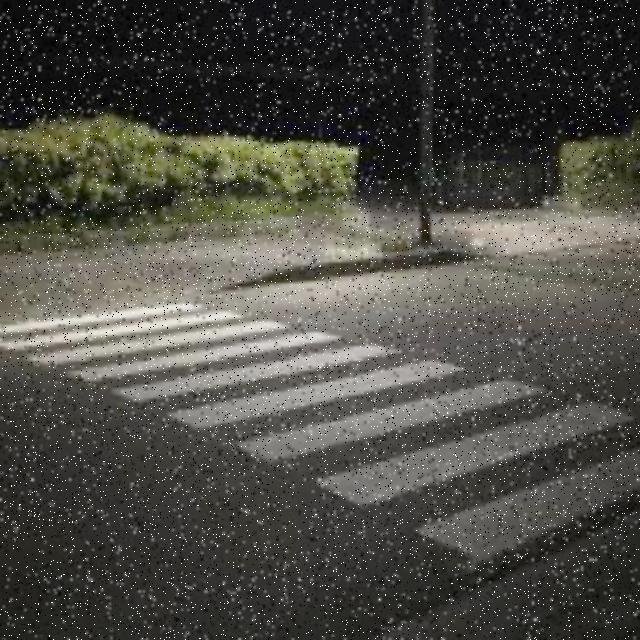Pedestrian crosswalk: (6, 297, 617, 563)
